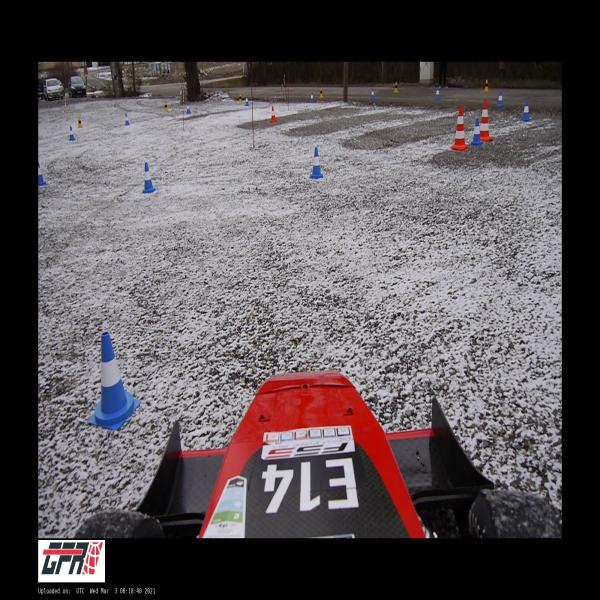blue_cone: (88, 332, 141, 430), (140, 162, 156, 194), (309, 147, 324, 179), (470, 119, 483, 146), (521, 99, 531, 120), (39, 161, 46, 187), (69, 126, 75, 141), (497, 93, 503, 106), (124, 113, 130, 126), (435, 86, 440, 100), (370, 88, 375, 100), (186, 102, 191, 113), (245, 95, 249, 106), (310, 92, 314, 102)
large_orange_cone: (450, 104, 470, 151), (478, 99, 493, 141)
orange_cone: (270, 106, 277, 123)
yellow_cone: (77, 116, 82, 128), (484, 80, 489, 92), (319, 87, 324, 98), (238, 93, 243, 103), (164, 101, 168, 113), (394, 82, 398, 93)
